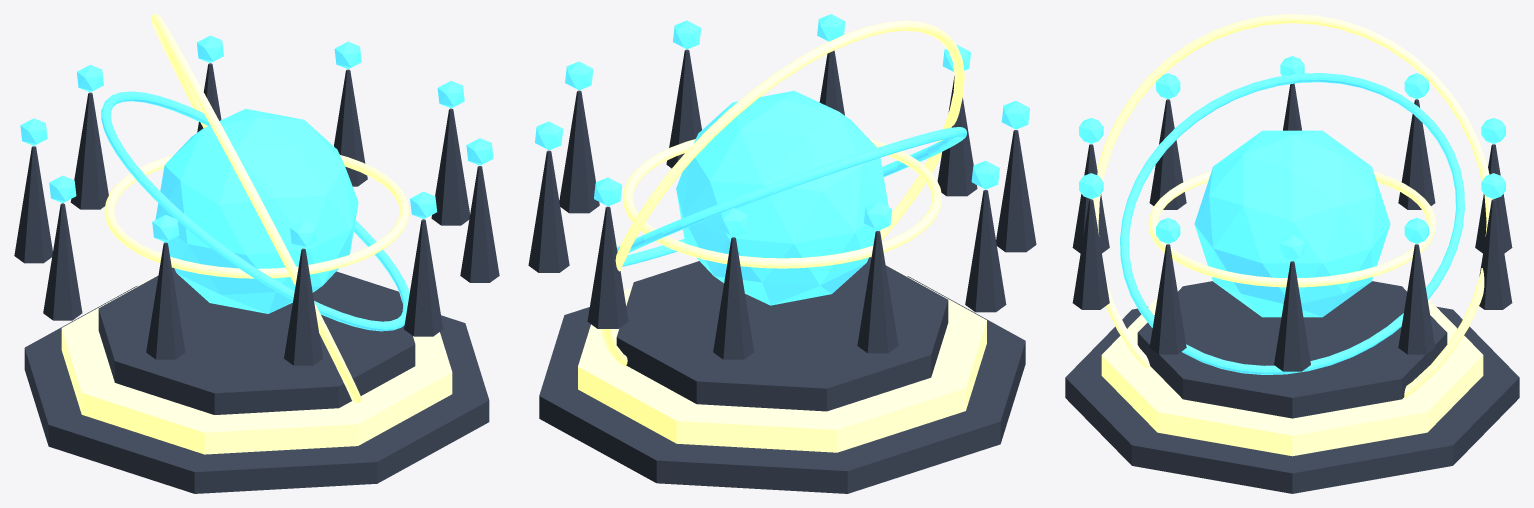
File: gpu-blender-v24.glb
3 renders of one model, left to right at view 1: azimuth 30°, elevation 25°; view 2: azimuth 150°, elevation 25°; view 3: azimuth 270°, elevation 25°, orthographic. The views are drawn at different scales.
Visible parts, largest first — view 1: Cylinder.002, SovereignCore_pod-smart-router, Cylinder, Cylinder.001, Torus.001, Torus, Torus.002, Cone.004, Cone.005, Cone.008, Cone.006, Cone.007 (+15 smaller); view 2: Cylinder.002, SovereignCore_pod-smart-router, Cylinder, Cylinder.001, Torus.002, Torus, Torus.001, Cone.004, Cone.005, Cone.006, Cone.003, Cone.001 (+14 smaller); view 3: SovereignCore_pod-smart-router, Cylinder.002, Cylinder, Cylinder.001, Torus.001, Torus.002, Torus, Cone.001, Cone.009, Cone, Cone.008, Cone.002 (+14 smaller).
Boxes of the visible parts, x1,y1,x2,y2 form: Cylinder.002: (98,267,415,414); SovereignCore_pod-smart-router: (155,108,358,313); Cylinder: (24,286,489,493); Cylinder.001: (61,276,452,454); Torus.001: (101,91,409,331); Torus: (104,155,409,278); Torus.002: (150,14,361,403); Cone.004: (14,146,52,263); Cone.005: (43,203,82,320); Cone.008: (404,219,443,336); Cone.006: (146,242,185,359); Cone.007: (284,248,323,365); Cylinder.002: (616,257,948,411); SovereignCore_pod-smart-router: (676,90,888,305); Cylinder: (539,276,1025,493); Cylinder.001: (578,266,986,452); Torus.002: (601,20,964,366); Torus: (623,139,941,268); Torus.001: (617,127,966,266); Cone.004: (857,231,898,353); Cone.005: (965,190,1006,312); Cone.006: (996,130,1036,252); Cone.003: (713,237,754,359); Cone.001: (528,150,569,272); SovereignCore_pod-smart-router: (1194,130,1390,317); Cylinder.002: (1137,281,1447,418); Cylinder: (1065,306,1519,493); Cylinder.001: (1101,298,1483,456); Torus.001: (1120,73,1464,374); Torus.002: (1092,14,1492,398); Torus: (1148,171,1436,287); Cone.001: (1398,244,1435,354); Cone.009: (1149,244,1186,354); Cone: (1274,261,1310,371); Cone.008: (1072,199,1109,309); Cone.002: (1479,199,1512,309).
Size of the model in its own units: 4.41 by 3.72 by 4.4.
